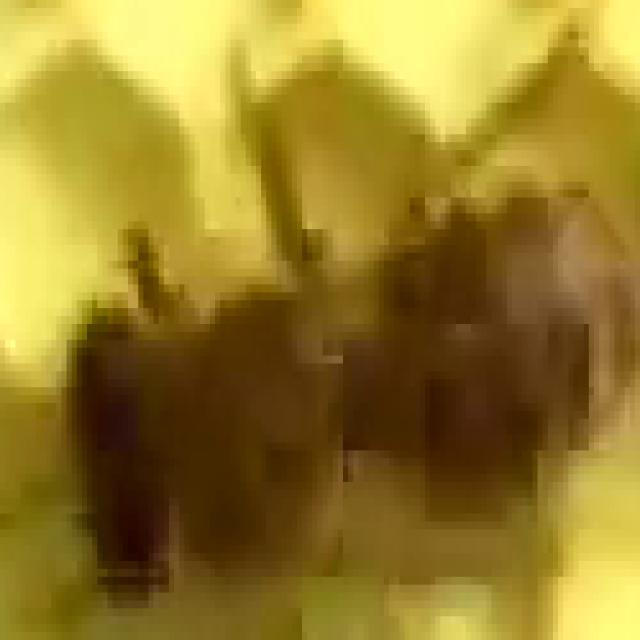honeybee: (63, 193, 607, 589)
